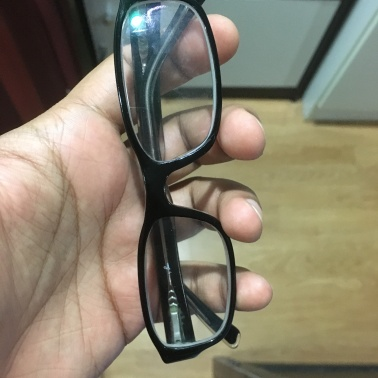glasses: (93, 4, 249, 351)
